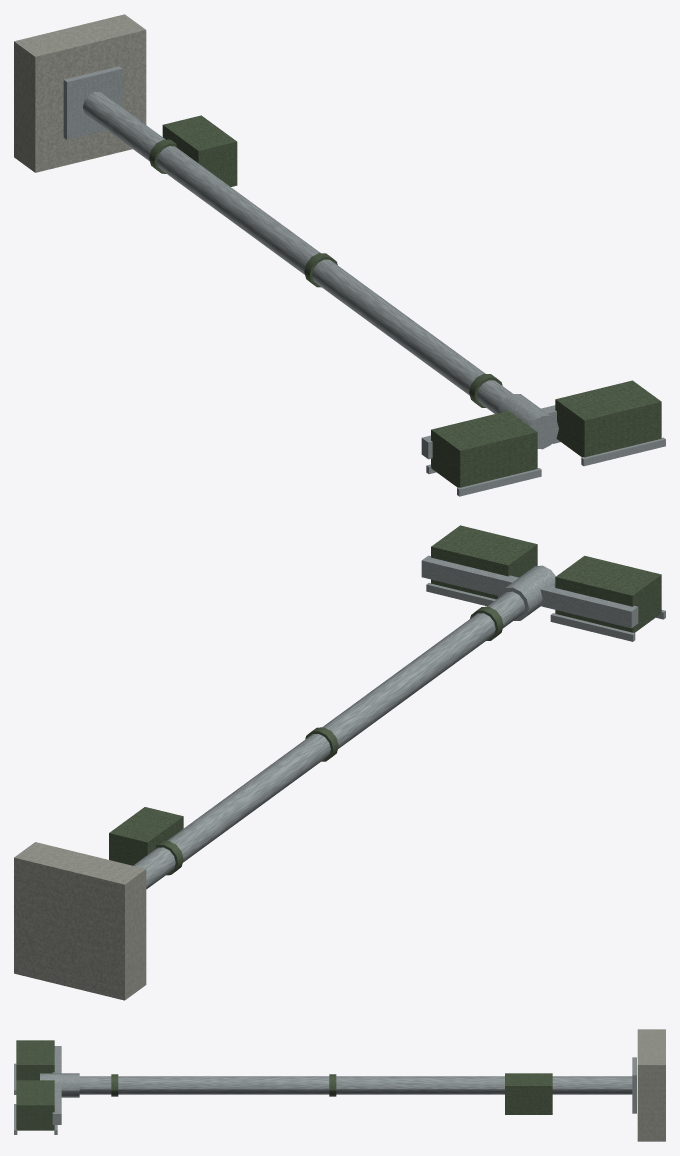
The model's file is Floodlight_Pole_Dual_5m.glb.
3 renders of one model, top to bottom at view 1: azimuth 30°, elevation 25°; view 2: azimuth 150°, elevation 25°; view 3: azimuth 270°, elevation 25°, orthographic. The views are drawn at different scales.
Parts seen in each view (by area): view 1: Floodlight_Pole_Dual_5m__GALVANIZED_MAST, Floodlight_Pole_Dual_5m__CAST_BASE_PEDESTAL, Floodlight_Pole_Dual_5m__LEFT_LIGHT_HOUSING, Floodlight_Pole_Dual_5m__RIGHT_LIGHT_HOUSING, Floodlight_Pole_Dual_5m__LOW_VOLTAGE_SERVICE_CABINET, Floodlight_Pole_Dual_5m__BASE_ANCHOR_PLATE, Floodlight_Pole_Dual_5m__HEAD_YOKE_SHAFT, Floodlight_Pole_Dual_5m__LEFT_LENS_GUARD_TOP, Floodlight_Pole_Dual_5m__RIGHT_LENS_GUARD_TOP; view 2: Floodlight_Pole_Dual_5m__CAST_BASE_PEDESTAL, Floodlight_Pole_Dual_5m__GALVANIZED_MAST, Floodlight_Pole_Dual_5m__LEFT_LIGHT_HOUSING, Floodlight_Pole_Dual_5m__HEAD_SUPPORT_CROSSBAR, Floodlight_Pole_Dual_5m__RIGHT_LIGHT_HOUSING, Floodlight_Pole_Dual_5m__LOW_VOLTAGE_SERVICE_CABINET, Floodlight_Pole_Dual_5m__HEAD_YOKE_SHAFT, Floodlight_Pole_Dual_5m__LEFT_LENS_GUARD_BOTTOM; view 3: Floodlight_Pole_Dual_5m__GALVANIZED_MAST, Floodlight_Pole_Dual_5m__CAST_BASE_PEDESTAL, Floodlight_Pole_Dual_5m__LOW_VOLTAGE_SERVICE_CABINET, Floodlight_Pole_Dual_5m__RIGHT_LIGHT_HOUSING, Floodlight_Pole_Dual_5m__LEFT_LIGHT_HOUSING, Floodlight_Pole_Dual_5m__HEAD_YOKE_SHAFT, Floodlight_Pole_Dual_5m__HEAD_SUPPORT_CROSSBAR, Floodlight_Pole_Dual_5m__BASE_ANCHOR_PLATE.
Boxes of the visible parts, box(x1,y1,x2,y2) form: Floodlight_Pole_Dual_5m__GALVANIZED_MAST: box(83, 91, 512, 413); Floodlight_Pole_Dual_5m__CAST_BASE_PEDESTAL: box(14, 14, 146, 172); Floodlight_Pole_Dual_5m__LEFT_LIGHT_HOUSING: box(431, 410, 537, 487); Floodlight_Pole_Dual_5m__RIGHT_LIGHT_HOUSING: box(555, 380, 661, 457); Floodlight_Pole_Dual_5m__LOW_VOLTAGE_SERVICE_CABINET: box(162, 115, 237, 186); Floodlight_Pole_Dual_5m__BASE_ANCHOR_PLATE: box(63, 66, 122, 139); Floodlight_Pole_Dual_5m__HEAD_YOKE_SHAFT: box(497, 394, 558, 449); Floodlight_Pole_Dual_5m__LEFT_LENS_GUARD_TOP: box(457, 468, 541, 496); Floodlight_Pole_Dual_5m__RIGHT_LENS_GUARD_TOP: box(581, 437, 665, 466); Floodlight_Pole_Dual_5m__CAST_BASE_PEDESTAL: box(14, 842, 146, 1000); Floodlight_Pole_Dual_5m__GALVANIZED_MAST: box(133, 591, 524, 889); Floodlight_Pole_Dual_5m__LEFT_LIGHT_HOUSING: box(555, 555, 661, 632); Floodlight_Pole_Dual_5m__HEAD_SUPPORT_CROSSBAR: box(421, 555, 638, 628); Floodlight_Pole_Dual_5m__RIGHT_LIGHT_HOUSING: box(431, 525, 537, 599); Floodlight_Pole_Dual_5m__LOW_VOLTAGE_SERVICE_CABINET: box(109, 807, 183, 865); Floodlight_Pole_Dual_5m__HEAD_YOKE_SHAFT: box(497, 565, 555, 620); Floodlight_Pole_Dual_5m__LEFT_LENS_GUARD_BOTTOM: box(550, 613, 635, 641); Floodlight_Pole_Dual_5m__GALVANIZED_MAST: box(79, 1076, 632, 1094); Floodlight_Pole_Dual_5m__CAST_BASE_PEDESTAL: box(637, 1029, 665, 1141); Floodlight_Pole_Dual_5m__LOW_VOLTAGE_SERVICE_CABINET: box(505, 1073, 552, 1114); Floodlight_Pole_Dual_5m__RIGHT_LIGHT_HOUSING: box(16, 1080, 54, 1130); Floodlight_Pole_Dual_5m__LEFT_LIGHT_HOUSING: box(16, 1040, 54, 1080); Floodlight_Pole_Dual_5m__HEAD_YOKE_SHAFT: box(40, 1073, 79, 1097); Floodlight_Pole_Dual_5m__HEAD_SUPPORT_CROSSBAR: box(52, 1046, 61, 1124); Floodlight_Pole_Dual_5m__BASE_ANCHOR_PLATE: box(632, 1057, 636, 1113).
Bounding box in the file's own units: 1.25 × 0.66 × 5.09.
Materials: 4 (4 with a texture image).
